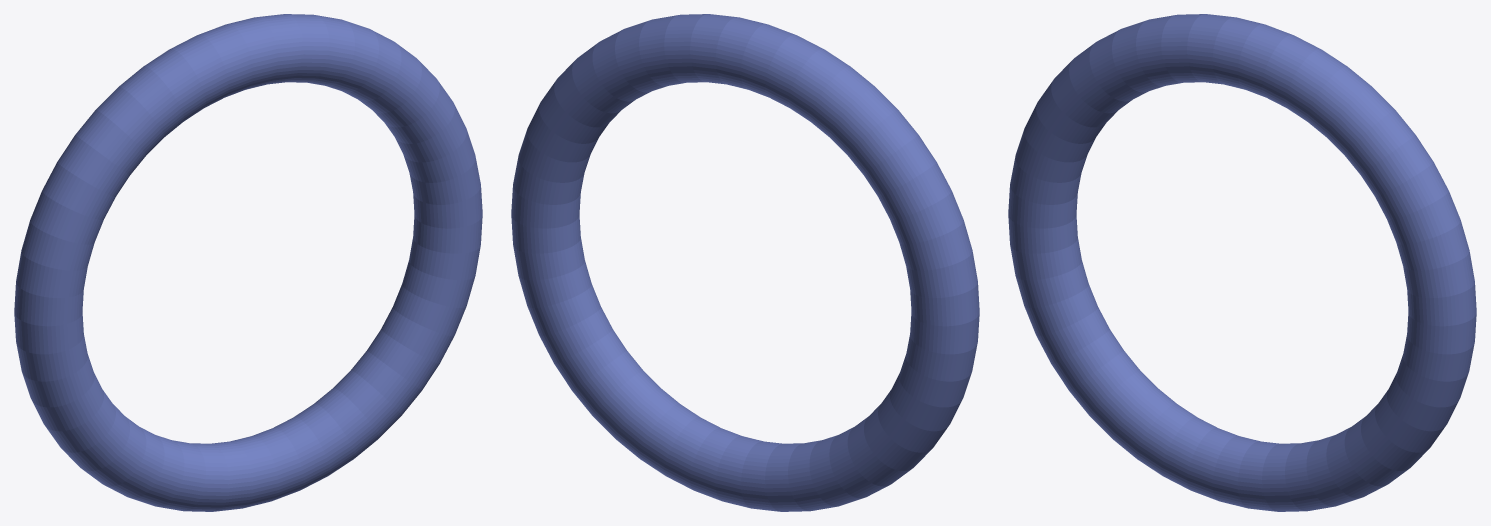
The picture shows the model from 3 angles, left to right: view 1: azimuth 30°, elevation 25°; view 2: azimuth 150°, elevation 25°; view 3: azimuth 330°, elevation 25°; orthographic projection.
Parts seen in each view (by area): view 1: world; view 2: world; view 3: world.
Boxes of the visible parts, x1=… form: world: x1=14, y1=14, x2=482, y2=511; world: x1=511, y1=14, x2=979, y2=511; world: x1=1008, y1=14, x2=1476, y2=511.
Bounding box in the file's own units: 17.6 × 17.57 × 2.26.
